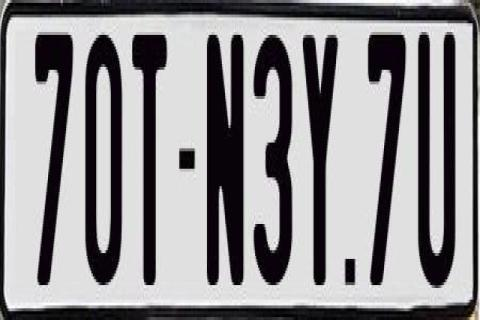0: (34, 32, 78, 285), (86, 32, 126, 294), (254, 35, 295, 288), (366, 26, 404, 288)
N: (206, 32, 246, 291)
T: (131, 26, 164, 288)
U: (416, 24, 456, 288)
Y: (300, 29, 335, 288)
